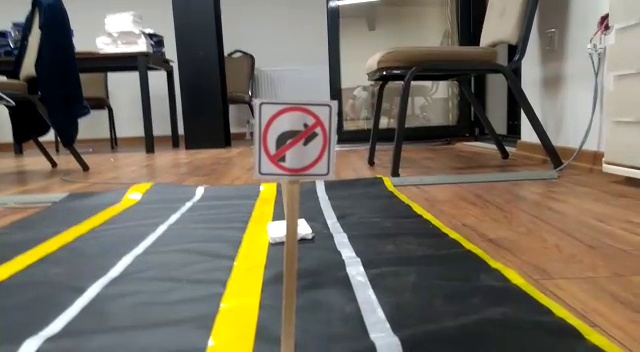saga_donulmez: (261, 102, 331, 179)
